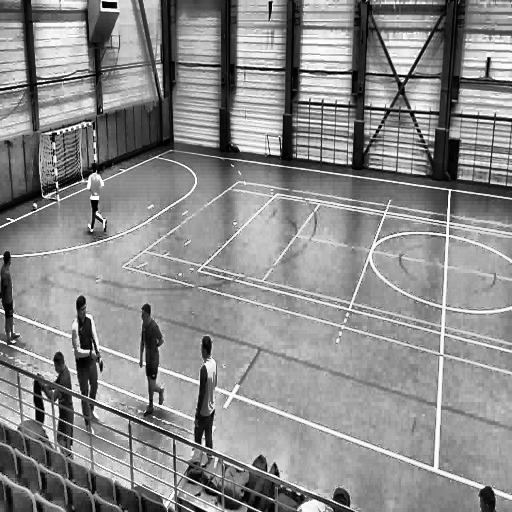ball: (31, 201, 39, 212)
player: (71, 296, 107, 436), (40, 348, 77, 461), (136, 303, 167, 421), (190, 332, 217, 455), (0, 248, 22, 348), (85, 162, 111, 241)
